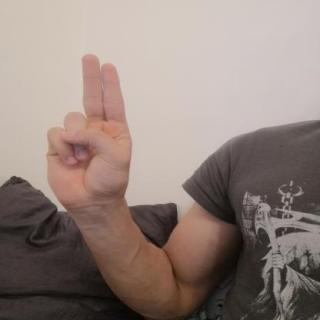TA: (35, 43, 140, 217)
